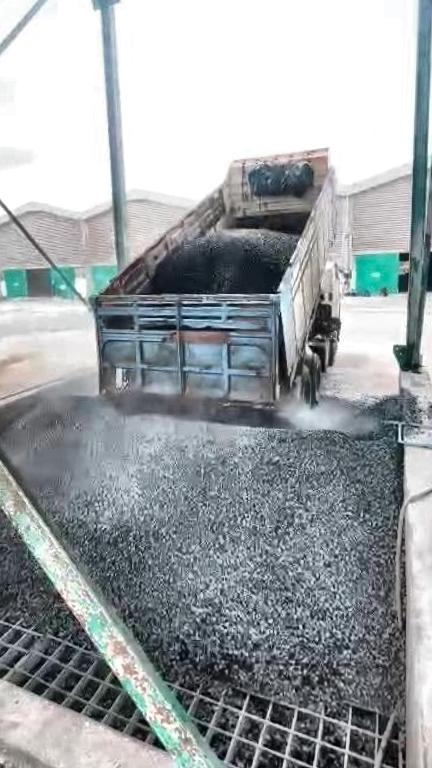gravel: (0, 372, 424, 717), (0, 444, 73, 631), (157, 232, 294, 293)
sand: (0, 346, 32, 401)
